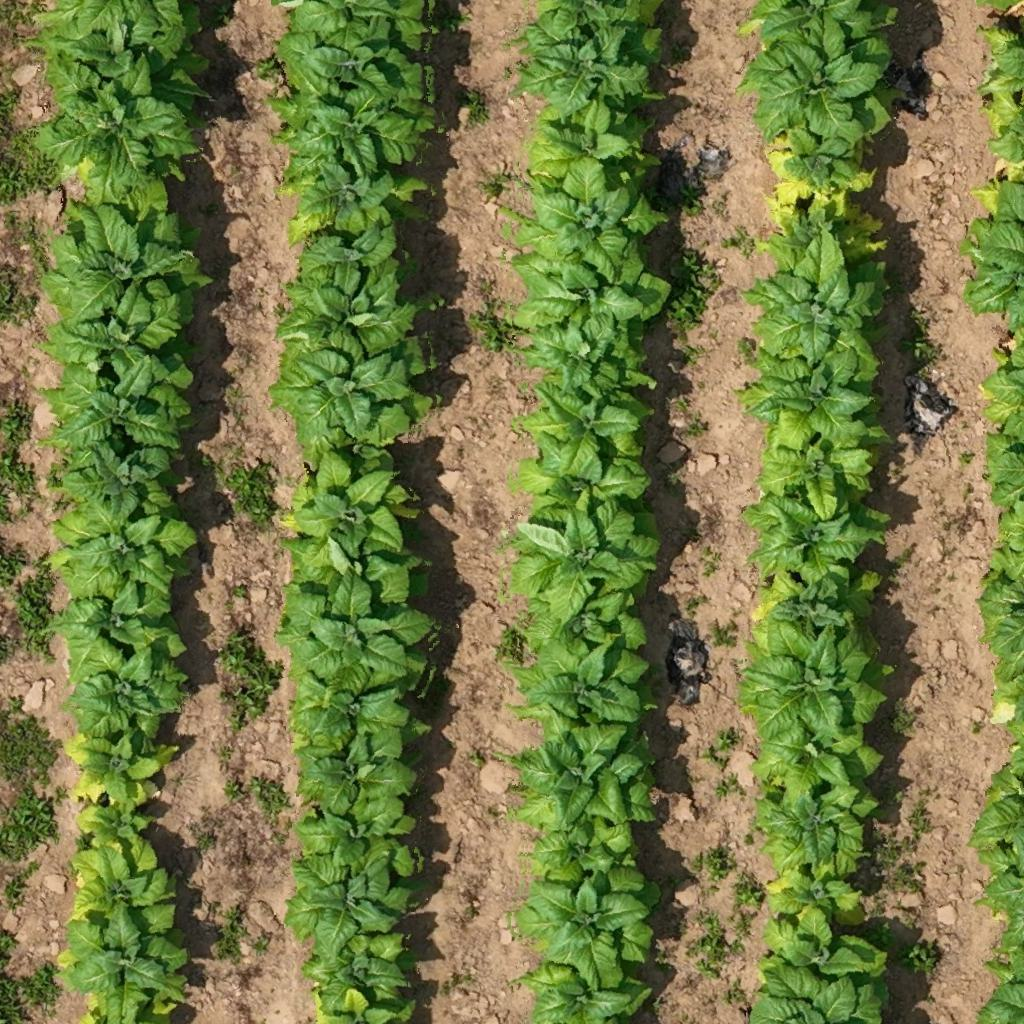disease: (52, 724, 184, 810), (742, 555, 878, 638), (751, 188, 887, 264), (761, 120, 881, 206), (70, 834, 176, 926), (766, 864, 870, 934)
healthy: (38, 50, 194, 218), (269, 56, 434, 204), (500, 486, 672, 626), (39, 191, 207, 330), (268, 324, 442, 454), (509, 150, 671, 286), (740, 233, 894, 374), (282, 571, 436, 712), (504, 701, 662, 831), (730, 615, 890, 743), (38, 278, 196, 404), (736, 479, 890, 604), (738, 21, 896, 139), (511, 3, 661, 125), (272, 436, 424, 556), (504, 235, 670, 343), (522, 864, 662, 992), (283, 844, 424, 968), (38, 8, 216, 106), (38, 350, 202, 456), (736, 340, 886, 454), (53, 492, 194, 606), (515, 368, 654, 483), (58, 904, 191, 1020), (274, 152, 434, 248), (744, 406, 878, 518), (268, 264, 423, 360), (511, 94, 657, 186), (512, 628, 648, 726), (273, 26, 436, 107), (64, 632, 184, 742), (750, 769, 879, 871), (752, 718, 891, 812), (290, 676, 438, 762), (62, 430, 178, 538), (517, 309, 656, 397), (288, 728, 424, 816), (513, 434, 657, 514), (52, 568, 184, 654), (293, 792, 423, 878), (759, 908, 893, 990), (290, 218, 404, 310), (298, 928, 416, 1012), (518, 583, 658, 652), (532, 810, 640, 894), (274, 1, 436, 56), (278, 524, 414, 588), (520, 960, 654, 1022), (751, 965, 886, 1023), (743, 3, 897, 51), (70, 798, 151, 852)
